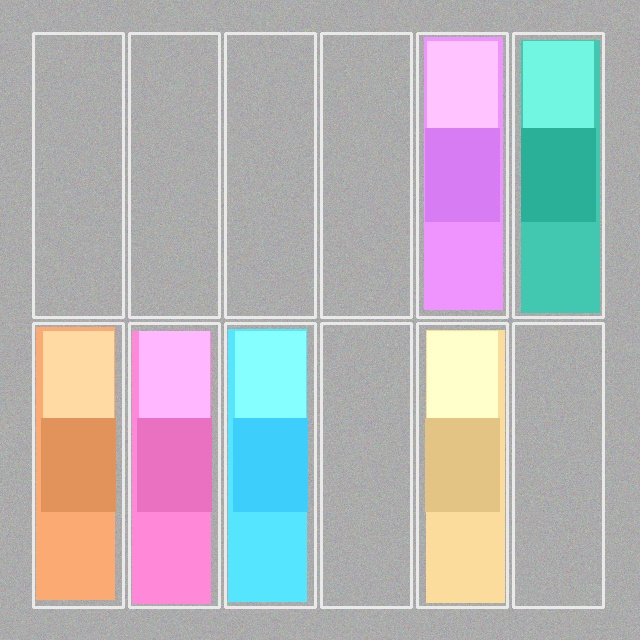space-empty: (35, 35, 121, 315), (131, 35, 217, 315), (227, 35, 313, 315), (323, 35, 409, 315), (323, 325, 409, 605), (515, 325, 601, 605)
space-occupied: (419, 35, 505, 315), (515, 35, 601, 315), (35, 325, 121, 605), (131, 325, 217, 605), (227, 325, 313, 605), (419, 325, 505, 605)
